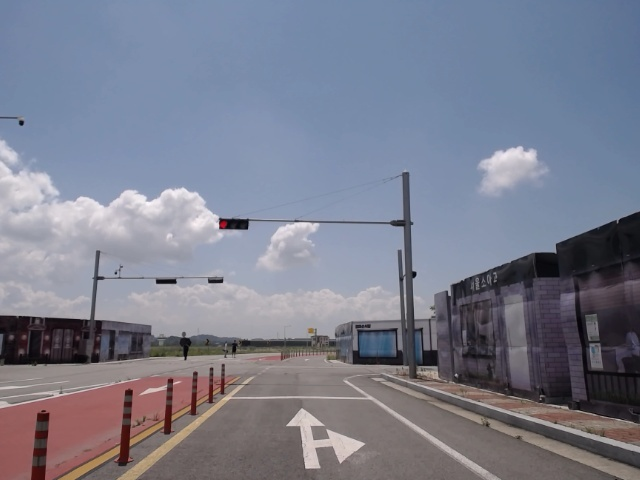red_3: (218, 218, 250, 232)
